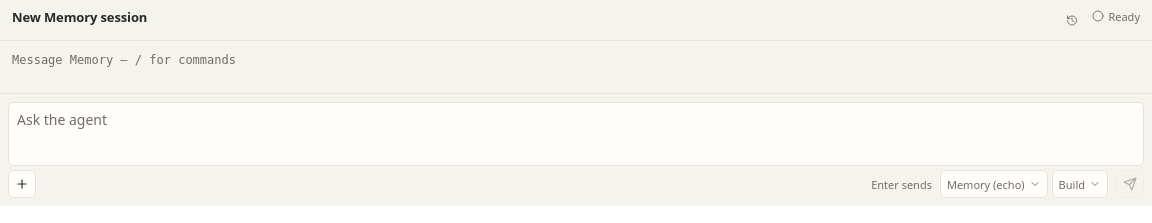
the sessions the engine holds › says why there is nothing to show when the engine’s answer could not be read
Click the button named "Sessions this engine holds": (1072, 20) x1=1060 y1=8 x2=1084 y2=32
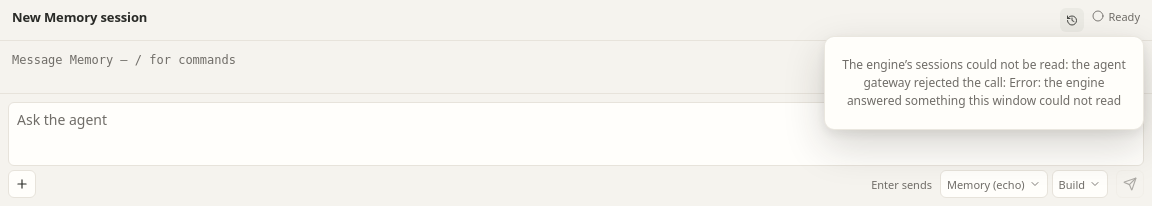
Expected: the text with class "agent-history-notice" shows "The engine’s sessions could not be read: the agent gateway rejected the call: Error: the engine answered something this window could not read", x1=842 y1=56 x2=1126 y2=109
